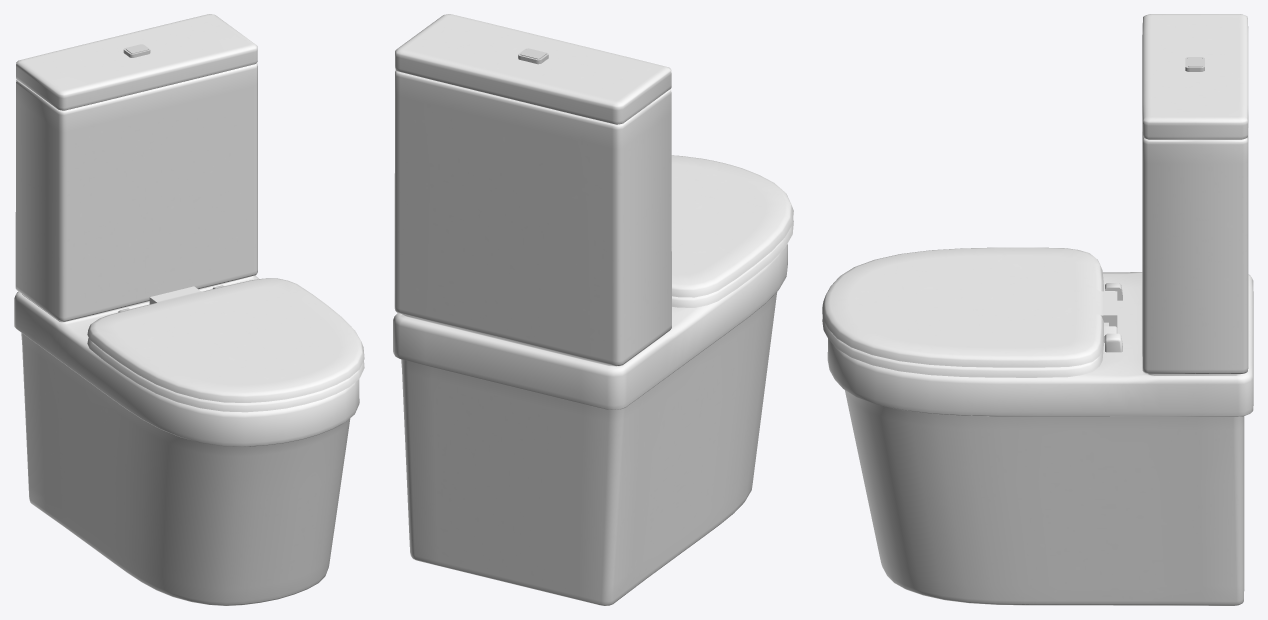
The model's file is Toilet.fbx.
The picture shows the model from 3 angles, left to right: view 1: azimuth 30°, elevation 25°; view 2: azimuth 150°, elevation 25°; view 3: azimuth 270°, elevation 25°; orthographic projection. The views are drawn at different scales.
Parts seen in each view (by area): view 1: WC_01; view 2: WC_01; view 3: WC_01.
Boxes of the visible parts, box(x1,y1,x2,y2) form: WC_01: box(14, 14, 364, 605); WC_01: box(393, 14, 793, 605); WC_01: box(822, 14, 1253, 605).
Size of the model in its own units: 51.86 by 105 by 82.64.
